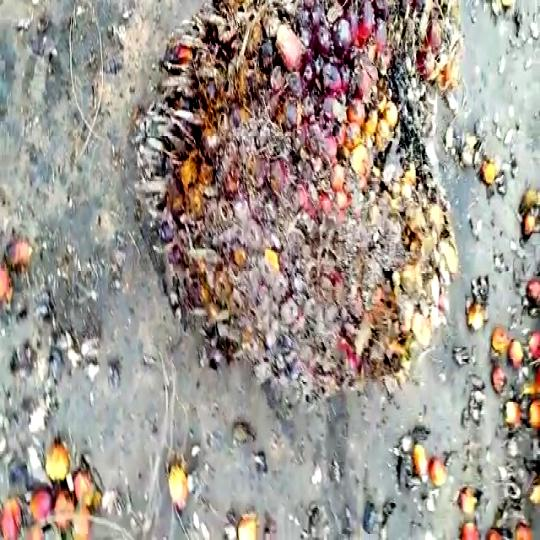masak: (139, 0, 459, 425)
